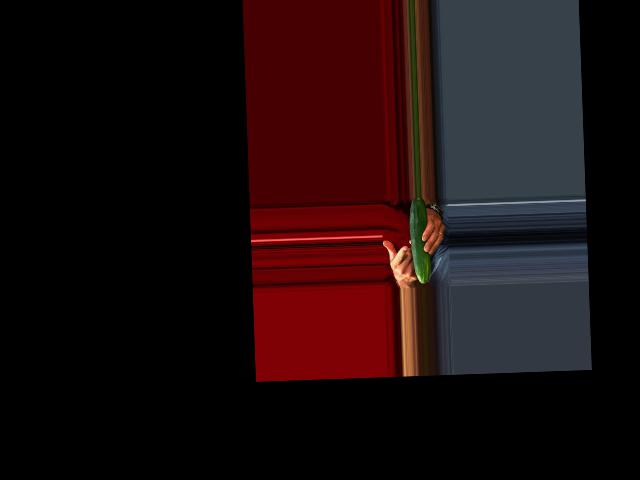cucumber: (408, 197, 432, 283)
